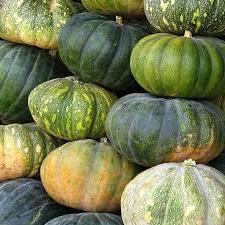peas: (0, 0, 224, 224)
pumpkin: (104, 92, 224, 166), (56, 11, 150, 91), (39, 138, 138, 212), (120, 158, 224, 224), (129, 30, 224, 98), (27, 75, 117, 140), (0, 37, 55, 124), (0, 0, 77, 49), (0, 177, 79, 224), (0, 121, 55, 184), (143, 0, 224, 36), (30, 211, 132, 224)
